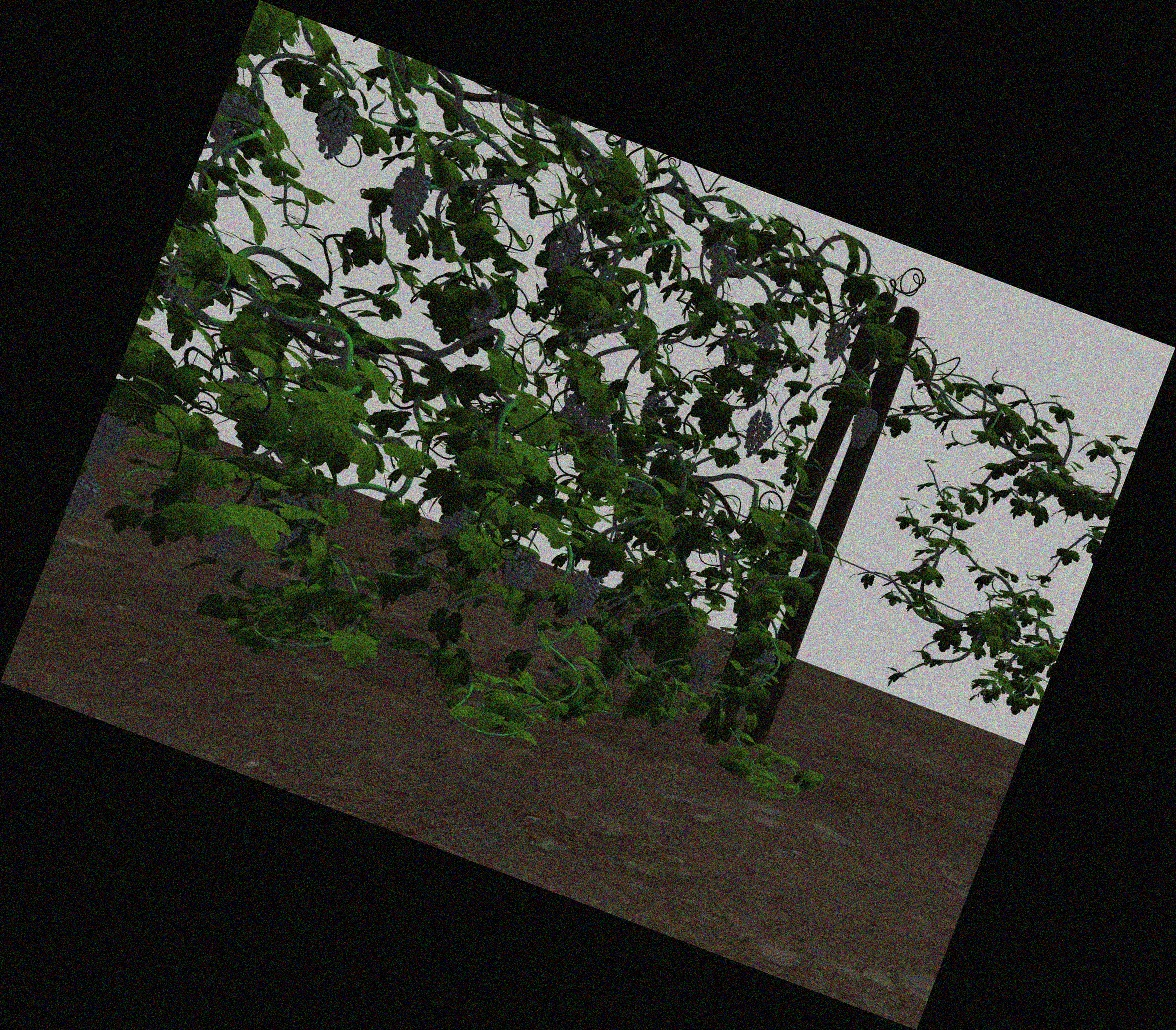grape: (313, 97, 353, 159), (389, 169, 426, 234), (216, 97, 252, 156), (561, 570, 596, 624), (502, 546, 537, 592), (549, 224, 579, 276), (95, 418, 124, 470), (704, 245, 735, 285), (471, 287, 499, 331), (745, 408, 769, 458), (850, 407, 875, 451), (74, 476, 96, 523), (208, 526, 237, 561), (573, 409, 610, 436), (824, 324, 848, 365), (440, 508, 469, 539), (688, 655, 710, 689), (751, 649, 772, 683), (643, 391, 666, 414)
